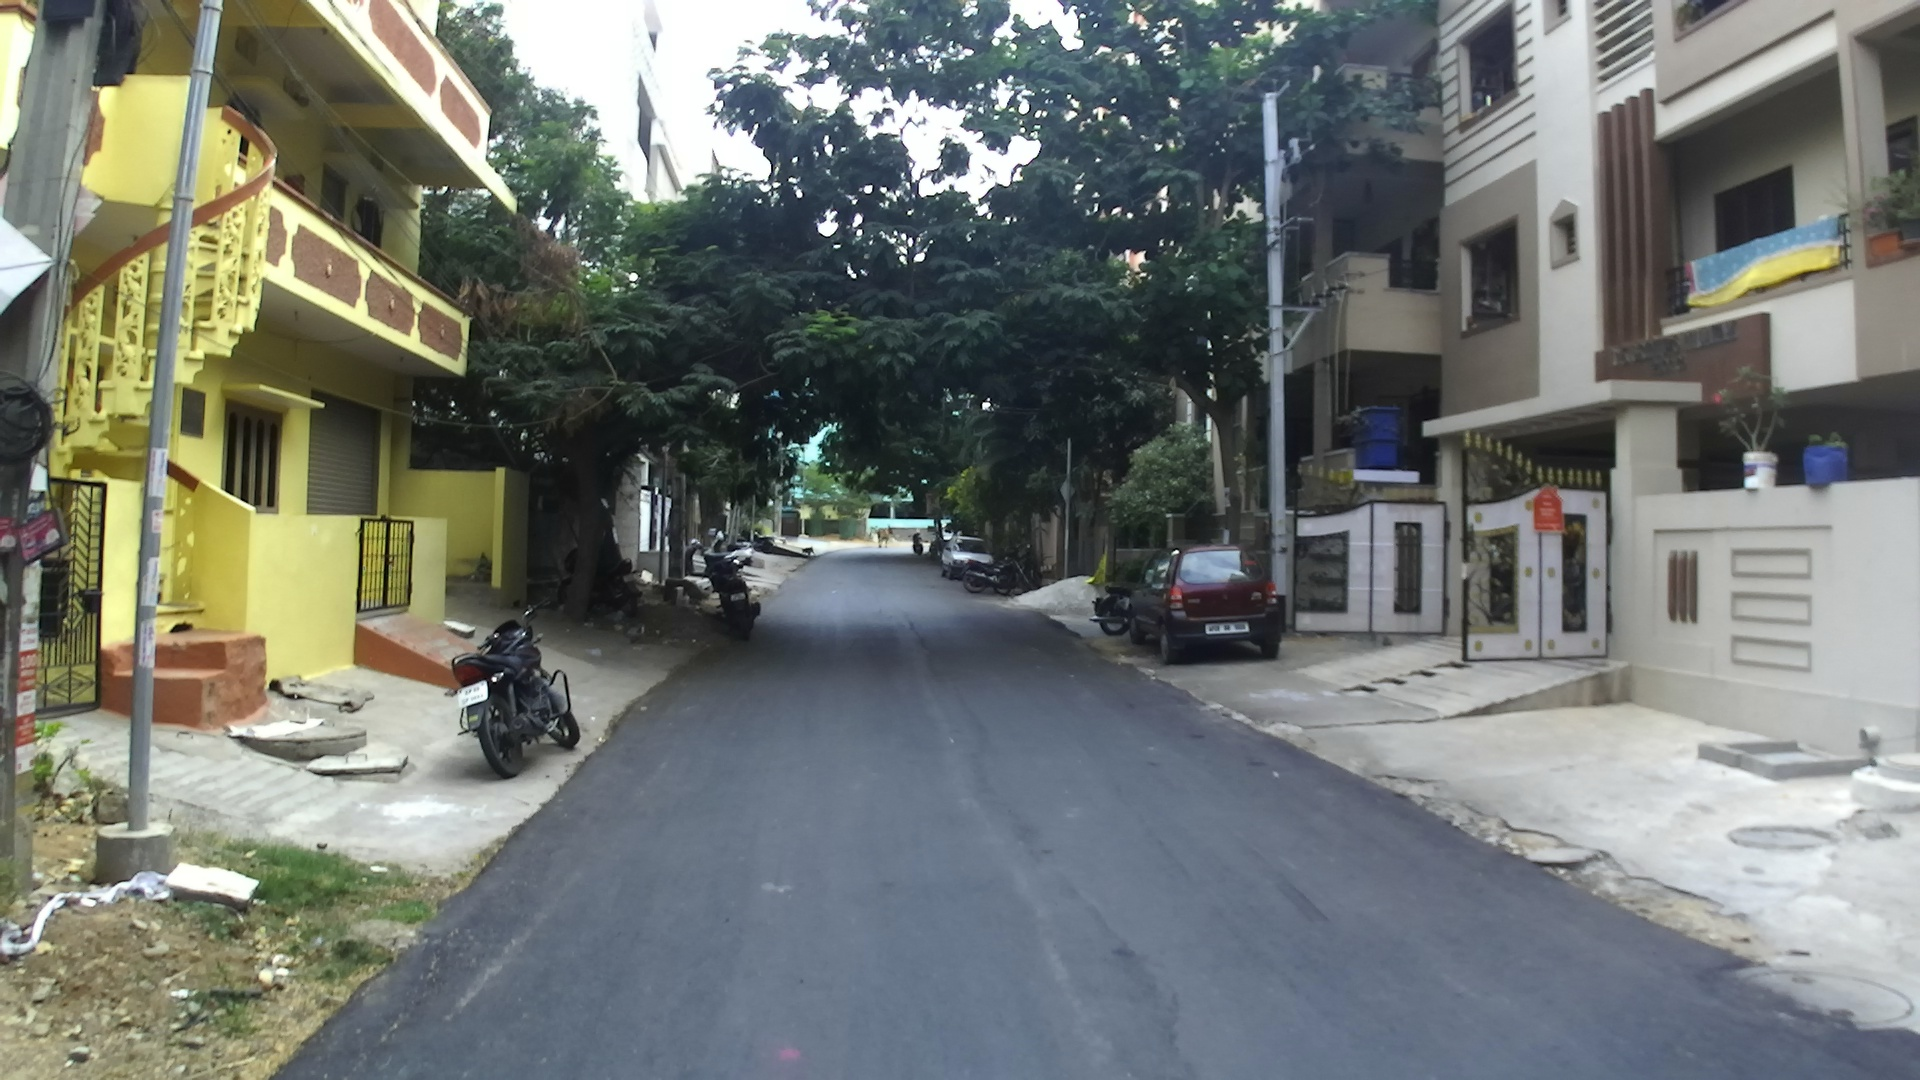vehicle: (1106, 545, 1288, 659), (454, 618, 580, 778), (694, 541, 764, 642), (942, 541, 1000, 592), (939, 537, 996, 579)
